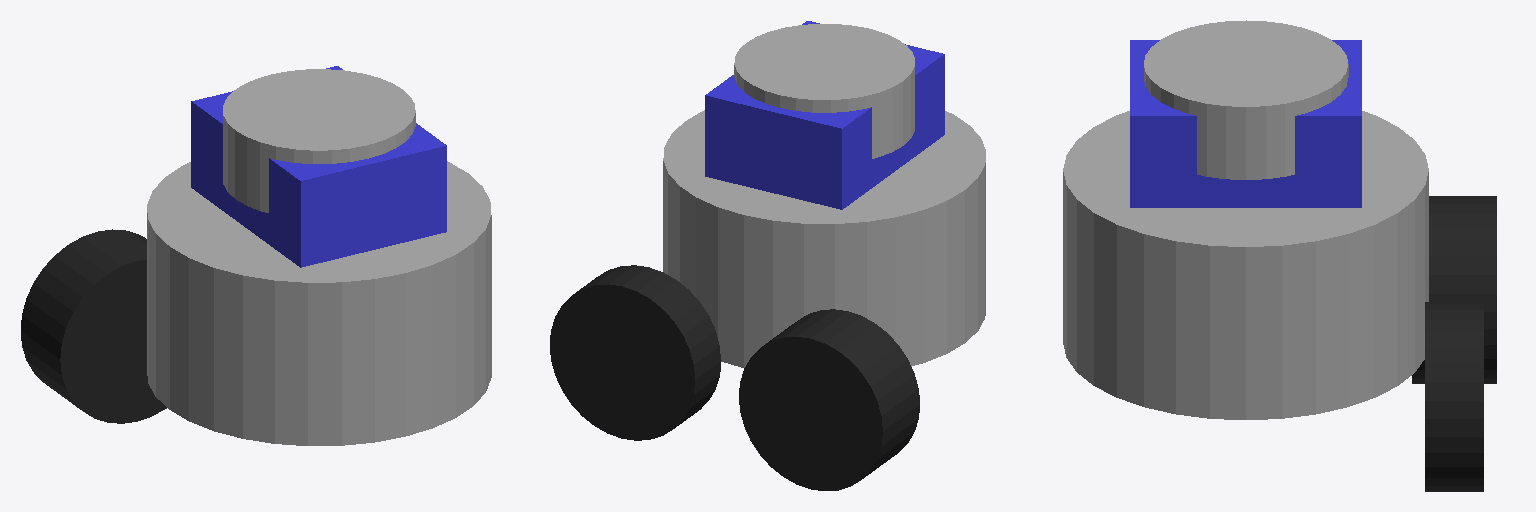
robot.urdf — evolved_robot:
<?xml version="1.0"?>
<robot name="evolved_robot">
  <material name="metal">
    <color rgba="0.7 0.7 0.7 1.0"/>
  </material>
  <material name="plastic">
    <color rgba="0.3 0.3 0.9 1.0"/>
  </material>
  <material name="rubber">
    <color rgba="0.1 0.1 0.1 1.0"/>
  </material>
  <material name="red">
    <color rgba="1.0 0.0 0.0 1.0"/>
  </material>
  <material name="wheel_material">
    <color rgba="0.2 0.2 0.2 1.0"/>
  </material>
  <link name="base_link">
    <visual>
      <geometry><cylinder radius="0.11914373872814613" length="0.12442829490669932"/></geometry>
      <material name="metal"/>
    </visual>
    <collision>
      <geometry><cylinder radius="0.11914373872814613" length="0.12442829490669932"/></geometry>
    </collision>
    <inertial>
      <mass value="5.0"/>
      <inertia ixx="0.04839007667312565" ixy="0" ixz="0" 
               iyy="0.04839007667312565" iyz="0" 
               izz="0.07097615239060373"/>
    </inertial>
  </link>
  <link name="link1">
    <visual>
      <geometry><box size="0.11662271331401174 0.1505596901425931 0.13188925897552822"/></geometry>
      <material name="plastic"/>
    </visual>
    <collision>
      <geometry><box size="0.11662271331401174 0.1505596901425931 0.13188925897552822"/></geometry>
    </collision>
    <inertial>
      <mass value="0.5"/>
      <inertia ixx="0.0033385830774122997" ixy="0" ixz="0" 
               iyy="0.0025829694911530103" iyz="0" 
               izz="0.0030224231297129845"/>
    </inertial>
  </link>
  <joint name="joint1" type="revolute">
    <parent link="base_link"/>
    <child link="link1"/>
    <origin xyz="0 0 0.06221414745334966" rpy="0 0 0"/>
    <axis xyz="0.9134203482828432 0.22663538062713712 -0.3380823443938506"/>
    <dynamics damping="0.7368814650449035" friction="0.1"/>
    <limit lower="-1.6878129517187643" upper="1.099" effort="100" velocity="100"/>
  </joint>
  <link name="link2">
    <visual>
      <geometry>
        <cylinder radius="0.06187990215402424" length="0.0386748151585726"/>
      </geometry>
      <material name="wheel_material"/>
    </visual>
    <collision>
      <geometry>
        <cylinder radius="0.06187990215402424" length="0.0386748151585726"/>
      </geometry>
    </collision>
    <inertial>
      <mass value="1.0"/>
      <inertia ixx="0.0010819256832770498" ixy="0" ixz="0" 
               iyy="0.0010819256832770498" iyz="0" 
               izz="0.0019145611452958068"/>
    </inertial>
  </link>
  <joint name="joint2" type="continuous">
    <parent link="base_link"/>
    <child link="link2"/>
    <origin xyz="0.08240792650231374 0.13587955095397852 -0.06221414745334966" rpy="1.5708 0 0"/>
    <axis xyz="0 1 0"/>
    <dynamics damping="0.7292250985731518" friction="0.1"/>
  </joint>
  <link name="link3">
    <visual>
      <geometry><cylinder radius="0.06672999116592493" length="0.05250902600688522"/></geometry>
      <material name="metal"/>
    </visual>
    <collision>
      <geometry><cylinder radius="0.06672999116592493" length="0.05250902600688522"/></geometry>
    </collision>
    <inertial>
      <mass value="0.5"/>
      <inertia ixx="0.0013429894146004169" ixy="0" ixz="0" 
               iyy="0.0013429894146004169" iyz="0" 
               izz="0.0022264458605022095"/>
    </inertial>
  </link>
  <joint name="joint3" type="revolute">
    <parent link="base_link"/>
    <child link="link3"/>
    <origin xyz="0 0 0.11221414745334966" rpy="0 0 0"/>
    <axis xyz="-0.22808564634430187 0.9537868952691053 -0.1956207973213043"/>
    <dynamics damping="0.8238974772228634" friction="0.1"/>
    <limit lower="-1.4281660174715174" upper="1.1222627562905743" effort="100" velocity="100"/>
  </joint>
  <link name="link4">
    <visual>
      <geometry>
        <cylinder radius="0.06129515850623454" length="0.054982276945663475"/>
      </geometry>
      <material name="wheel_material"/>
    </visual>
    <collision>
      <geometry>
        <cylinder radius="0.06129515850623454" length="0.054982276945663475"/>
      </geometry>
    </collision>
    <inertial>
      <mass value="1.0"/>
      <inertia ixx="0.001191195012253574" ixy="0" ixz="0" 
               iyy="0.001191195012253574" iyz="0" 
               izz="0.0018785482281522083"/>
    </inertial>
  </link>
  <joint name="joint4" type="continuous">
    <parent link="base_link"/>
    <child link="link4"/>
    <origin xyz="-0.08240792650231374 0.13587955095397852 -0.06221414745334966" rpy="1.5708 0 0"/>
    <axis xyz="0 1 0"/>
    <dynamics damping="0.7533931194174213" friction="0.1"/>
  </joint>
</robot>

--- What the picture shows (computed from the rendered views, not written in the file) ---
The picture shows the robot from 3 angles, left to right: view 1: azimuth 30°, elevation 25°; view 2: azimuth 150°, elevation 25°; view 3: azimuth 270°, elevation 25°; orthographic projection.
Model evolved_robot with 5 links and 4 joints (2 revolute, 2 continuous), rooted at base_link, posed all joints at 0.
Visible links, largest first — view 1: base_link, link1, link4, link3; view 2: base_link, link4, link2, link1, link3; view 3: base_link, link3, link1, link2, link4.
Boxes of the visible links, left/top/right/bottom form: base_link: left=147, top=161, right=491, bottom=445; link1: left=191, top=66, right=446, bottom=267; link4: left=21, top=229, right=166, bottom=423; link3: left=223, top=69, right=415, bottom=212; base_link: left=663, top=110, right=985, bottom=367; link4: left=739, top=309, right=919, bottom=490; link2: left=550, top=265, right=720, bottom=440; link1: left=705, top=21, right=944, bottom=209; link3: left=734, top=24, right=914, bottom=158; base_link: left=1063, top=111, right=1428, bottom=419; link3: left=1144, top=20, right=1348, bottom=179; link1: left=1130, top=40, right=1361, bottom=207; link2: left=1425, top=302, right=1483, bottom=491; link4: left=1412, top=196, right=1496, bottom=383.
Bounding box of the posed robot: 0.288 × 0.2825 × 0.2626 m (x, y, z).
Geometry: primitives only (box / cylinder / sphere), no mesh files.